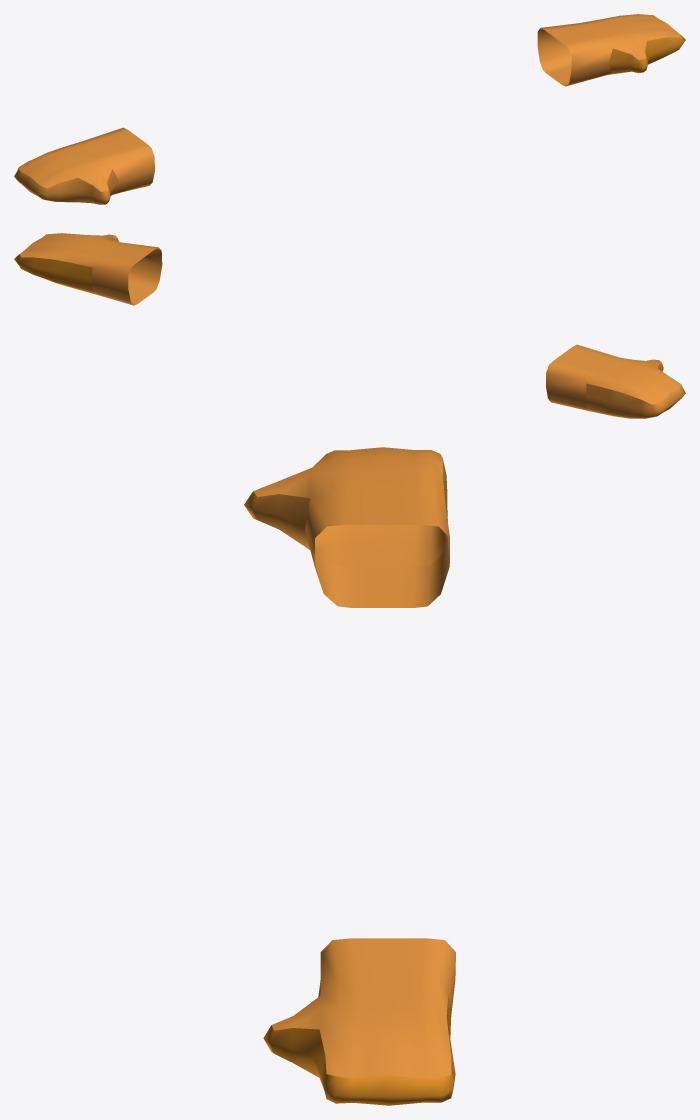
The model's file is inşaatcı eldiveni.fbx.
The picture shows the model from 3 angles, top to bottom: view 1: azimuth 30°, elevation 25°; view 2: azimuth 150°, elevation 25°; view 3: azimuth 270°, elevation 25°; orthographic projection. The views are drawn at different scales.
Visible parts, largest first — view 1: Cube.003; view 2: Cube.003; view 3: Cube.003.
Part boxes in pixels (x1,y1,x2,y2): Cube.003: [14, 14, 685, 204]; Cube.003: [14, 233, 685, 418]; Cube.003: [244, 447, 455, 1105].
Bounding box in the file's own units: 1106 × 73.67 × 157.
